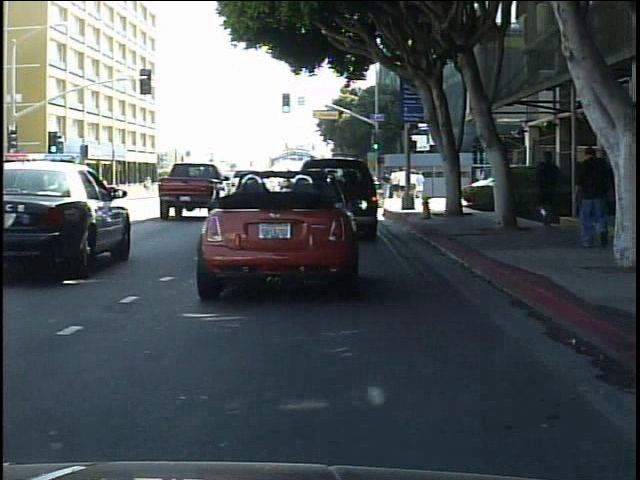person: (569, 139, 616, 258), (528, 146, 570, 236), (144, 174, 154, 199)
